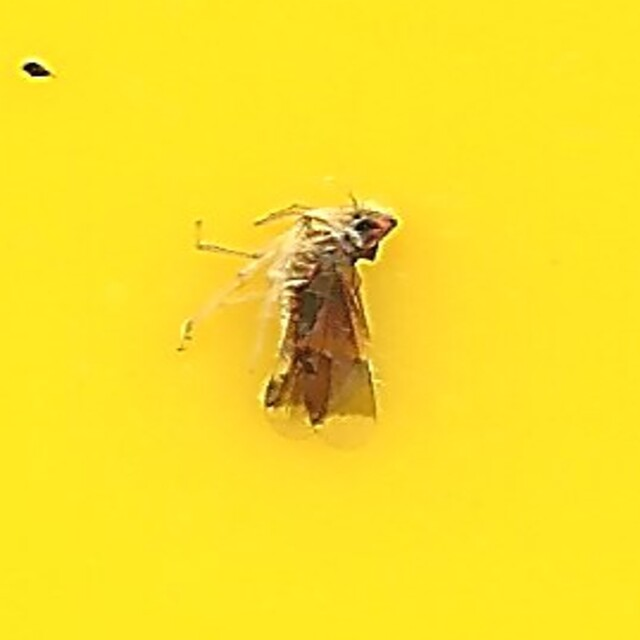Hemiptera: (238, 196, 402, 444)
